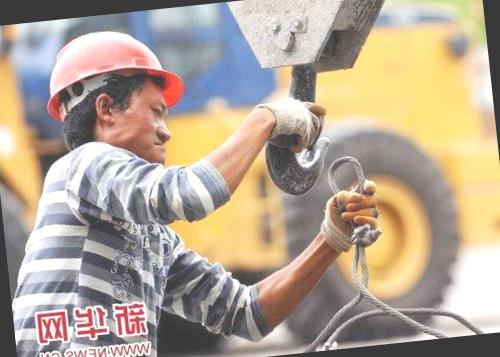helmet: (36, 19, 191, 119)
no_vest: (1, 133, 220, 357)
person: (0, 16, 245, 357)
